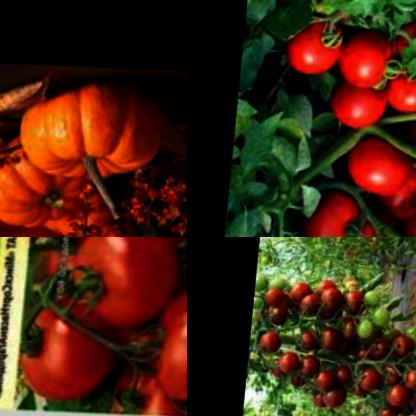pumpkin: (11, 76, 168, 186), (0, 148, 87, 236), (0, 212, 74, 237)
tomato: (21, 289, 124, 406), (65, 237, 180, 329), (255, 283, 368, 354), (262, 348, 353, 407), (147, 282, 187, 400), (344, 23, 405, 89), (109, 356, 176, 416), (351, 131, 416, 192), (286, 13, 352, 73), (353, 356, 416, 416), (310, 187, 375, 237), (360, 311, 416, 366), (336, 84, 399, 129), (355, 284, 394, 338), (389, 60, 416, 115), (387, 170, 416, 221), (354, 218, 410, 237), (396, 9, 416, 58)
